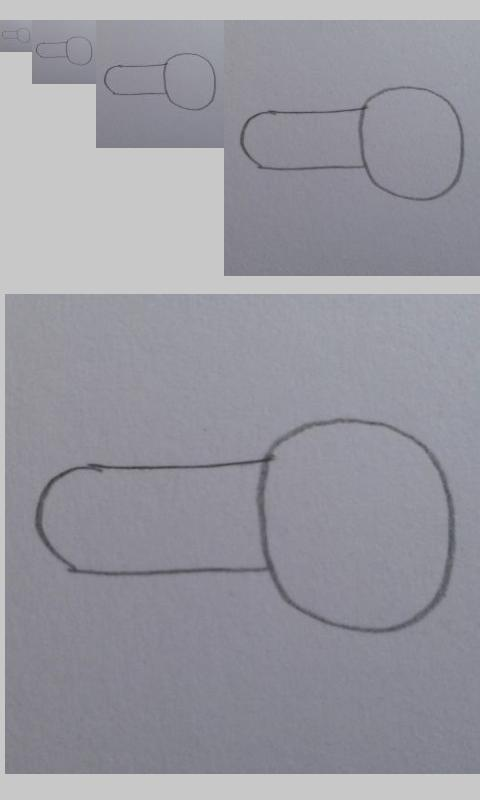switch: (33, 418, 457, 636), (238, 86, 466, 202), (102, 52, 217, 111), (35, 36, 93, 66), (1, 27, 31, 43)
